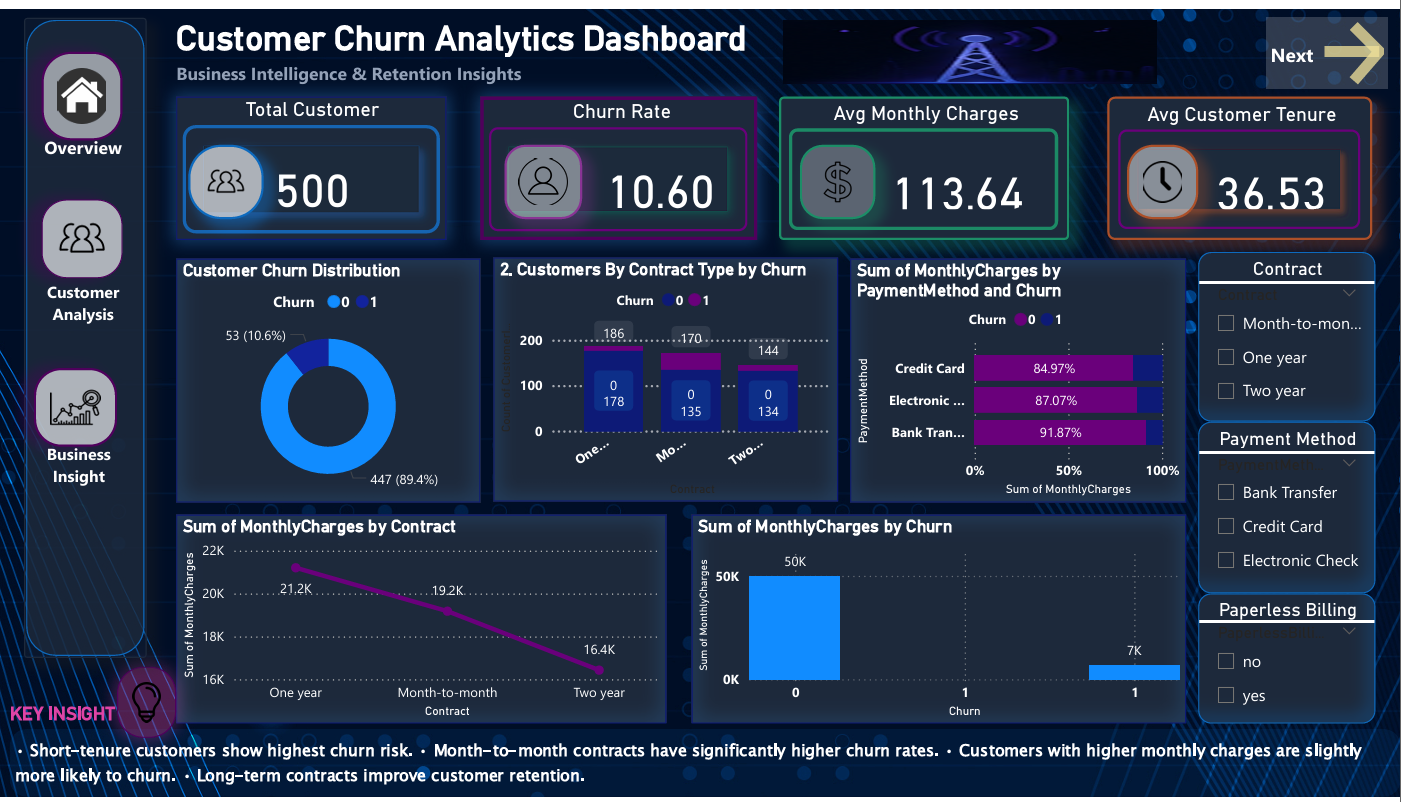

What the dashboard file says about the page in this screenshot:
{"tool":"powerbi","page":{"name":"Executive Overview","canvas":[1280,720],"ordinal":0},"visuals":[{"type":"cardVisual","title":"Total Customer","fields":{"Data":["Count(cleaned_data.CustomerID)"]},"box":[160.8,79.7,247.3,131.1],"z":0},{"type":"cardVisual","title":"Churn Rate","fields":{"Data":["cleaned_data.Churn Rate %"]},"box":[439.2,79.7,252.7,131.1],"z":1000},{"type":"cardVisual","title":"Avg Monthly Charges","fields":{"Data":["Avg(cleaned_data.MonthlyCharges)"]},"box":[712.2,79.7,264.9,131.1],"z":2000},{"type":"cardVisual","title":"Avg Customer Tenure","fields":{"Data":["Avg(cleaned_data.Tenure)"]},"box":[1012.2,79.7,241.9,131.1],"z":3000},{"type":"donutChart","title":"Customer Churn Distribution","fields":{"Y":["CountNonNull(cleaned_data.CustomerID)"],"Category":["cleaned_data.Churn"]},"box":[160.8,228.4,278.4,223],"z":4000},{"type":"columnChart","title":"2. Customers By Contract Type by Churn","fields":{"Y":["CountNonNull(cleaned_data.CustomerID)"],"Category":["cleaned_data.Contract"],"Series":["cleaned_data.Churn"]},"box":[451.4,227,314.9,223],"z":5000},{"type":"columnChart","fields":{"Y":["Sum(cleaned_data.MonthlyCharges)"],"Category":["cleaned_data.Churn"]},"box":[632.4,462.2,451.4,190.5],"z":6000},{"type":"slicer","title":"Contract","fields":{"Values":["cleaned_data.Contract"]},"box":[1094.6,221.6,162.2,155.4],"z":7000},{"type":"slicer","title":"Payment Method","fields":{"Values":["cleaned_data.PaymentMethod"]},"box":[1094.6,377,162.2,156.8],"z":8000},{"type":"slicer","title":"Paperless Billing","fields":{"Values":["cleaned_data.PaperlessBilling"]},"box":[1094.6,533.8,162.2,118.9],"z":9000},{"type":"lineChart","fields":{"Y":["Sum(cleaned_data.MonthlyCharges)"],"Category":["cleaned_data.Contract"]},"box":[160.8,462.2,448.6,190.5],"z":10000},{"type":"hundredPercentStackedBarChart","fields":{"Category":["cleaned_data.PaymentMethod"],"Y":["Sum(cleaned_data.MonthlyCharges)"],"Series":["cleaned_data.Churn"]},"box":[777,228.4,306.8,223],"z":11000},{"type":"shape","title":"KEY INSIGHT","box":[9.5,633.8,1270.3,86.5],"z":12000},{"type":"image","box":[171.6,124.3,68.9,67.6],"z":13000},{"type":"image","box":[1029.7,124.3,64.9,67.6],"z":14000},{"type":"image","box":[731.1,124.3,68.9,67.6],"z":15000},{"type":"image","box":[460.8,124.3,71.6,67.6],"z":16000},{"type":"image","box":[106.8,601.4,54.1,64.9],"z":17000},{"type":"shape","title":"Customer Churn Analytics Dashboard","box":[160.8,8.1,816.2,62.2],"z":18000},{"type":"shape","box":[21.6,8.1,112.2,585.1],"z":19000},{"type":"image","box":[37.8,39.2,74.3,81.1],"z":20000},{"type":"image","title":"Insight","box":[31.1,328.4,75.7,71.6],"z":21000},{"type":"image","box":[37.8,174.3,74.3,71.6],"z":22000},{"type":"actionButton","box":[25.7,105.4,100,40.5],"z":23000},{"type":"actionButton","box":[25.7,228.4,100,78.4],"z":24000},{"type":"actionButton","box":[21.6,377,100,78.4],"z":25000},{"type":"image","box":[711.4,5.1,350.6,68.4],"z":26000},{"type":"actionButton","title":"Next","box":[1157,7.6,111.4,65.8],"z":27000}]}

Visuals, with their boxes in screenshot pixels (x1, y1, x2, y2), scaled from the page's 1280x720 canvas onto the 1401x802 screenshot:
"Total Customer" cardVisual: <box>176,89,447,235</box>
"Churn Rate" cardVisual: <box>481,89,757,235</box>
"Avg Monthly Charges" cardVisual: <box>780,89,1069,235</box>
"Avg Customer Tenure" cardVisual: <box>1108,89,1373,235</box>
"Customer Churn Distribution" donutChart: <box>176,254,481,503</box>
"2. Customers By Contract Type by Churn" columnChart: <box>494,253,839,501</box>
columnChart - Sum(cleaned_data.MonthlyCharges) x cleaned_data.Churn: <box>692,515,1186,727</box>
"Contract" slicer: <box>1198,247,1376,420</box>
"Payment Method" slicer: <box>1198,420,1376,595</box>
"Paperless Billing" slicer: <box>1198,595,1376,727</box>
lineChart - Sum(cleaned_data.MonthlyCharges) x cleaned_data.Contract: <box>176,515,667,727</box>
hundredPercentStackedBarChart - cleaned_data.PaymentMethod x Sum(cleaned_data.MonthlyCharges): <box>850,254,1186,503</box>
"KEY INSIGHT" shape: <box>10,706,1400,801</box>
image: <box>188,138,263,214</box>
image: <box>1127,138,1198,214</box>
image: <box>800,138,876,214</box>
image: <box>504,138,583,214</box>
image: <box>117,670,176,742</box>
"Customer Churn Analytics Dashboard" shape: <box>176,9,1069,78</box>
shape: <box>24,9,146,661</box>
image: <box>41,44,123,134</box>
"Insight" image: <box>34,366,117,446</box>
image: <box>41,194,123,274</box>
actionButton: <box>28,117,138,163</box>
actionButton: <box>28,254,138,342</box>
actionButton: <box>24,420,133,507</box>
image: <box>779,6,1162,82</box>
"Next" actionButton: <box>1266,8,1388,82</box>
